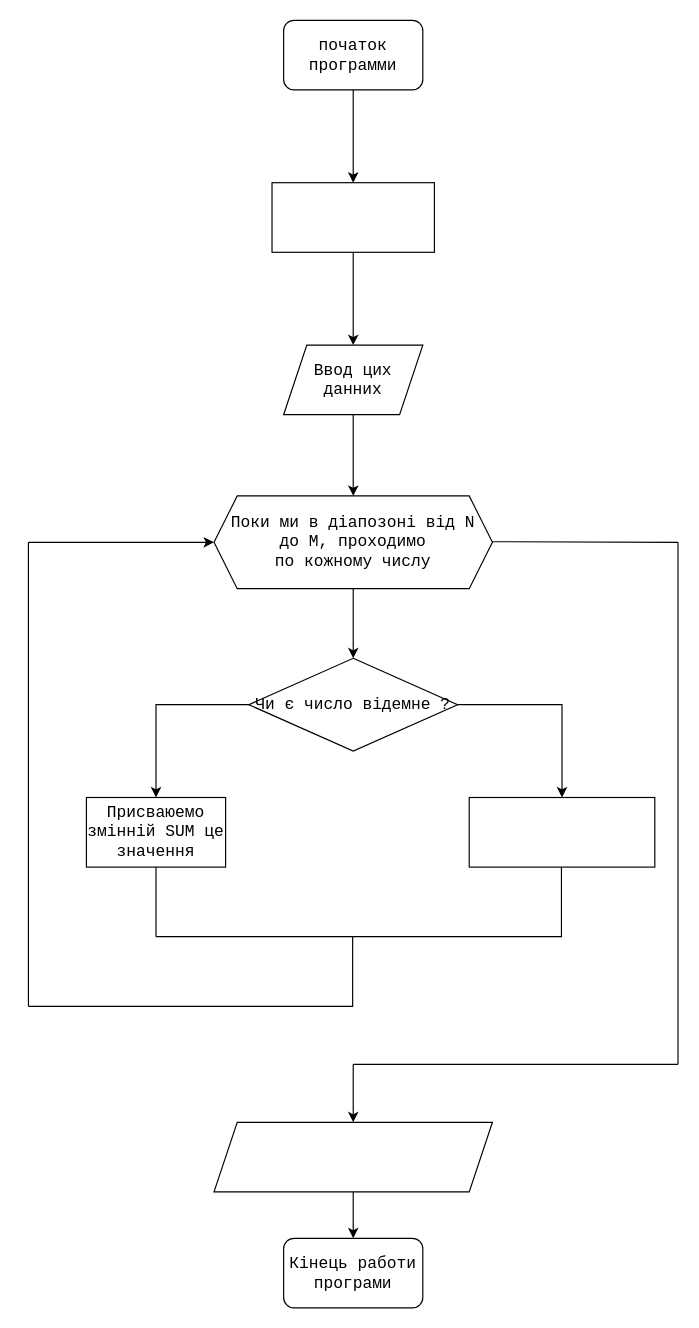
This 699x1328 diagram has some shape labels left out. Here are the shapes that lost their labels. From the top down, the centre of each, then its label:
At (x=352, y=217): "ініціалізація змінних N та M, а також sum".
At (x=561, y=831): "Пропускаемо числ, та переходимо до наступного".
At (x=352, y=1156): "Виведення значення змінной SUM".
